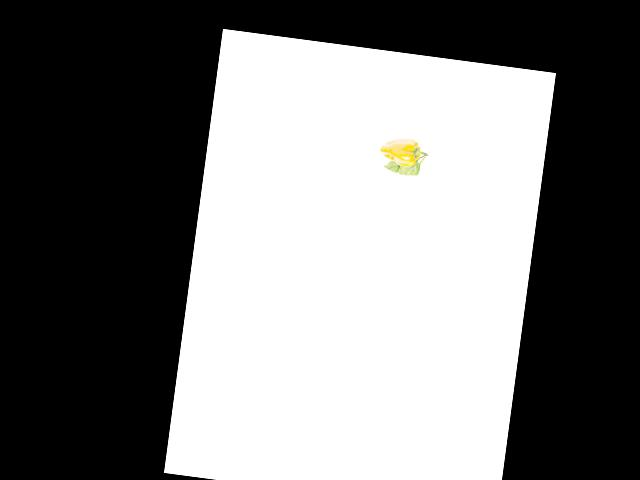bell_pepper: (376, 132, 431, 170)
